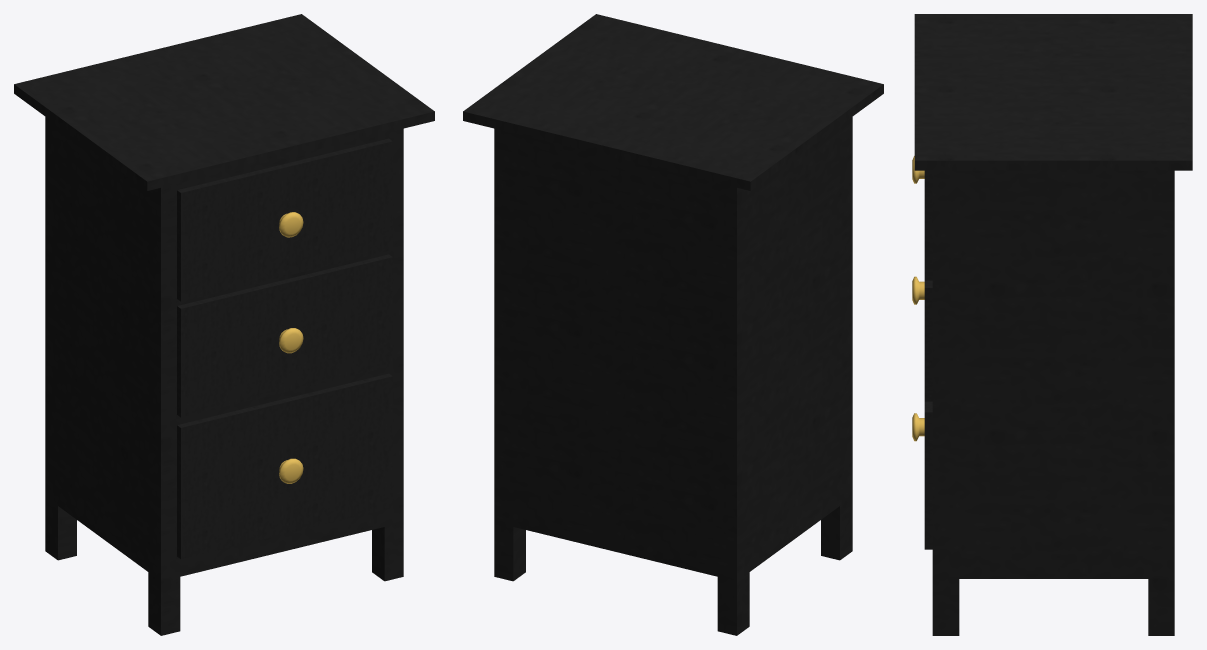
The model's file is Drawer14.fbx.
3 views of the same model, side by side, from view 1: azimuth 30°, elevation 25°; view 2: azimuth 150°, elevation 25°; view 3: azimuth 270°, elevation 25° (orthographic). The views are drawn at different scales.
Visible parts, largest first — view 1: Drawer14_Body, Drawer14_3, Drawer14_2, Drawer14_1; view 2: Drawer14_Body; view 3: Drawer14_Body, Drawer14_3, Drawer14_2, Drawer14_1.
Boxes of the visible parts, box(x1,y1,x2,y2) form: Drawer14_Body: box(14, 14, 434, 635); Drawer14_3: box(177, 373, 392, 559); Drawer14_2: box(177, 254, 392, 417); Drawer14_1: box(177, 138, 392, 301); Drawer14_Body: box(463, 14, 883, 635); Drawer14_Body: box(914, 14, 1192, 635); Drawer14_3: box(912, 401, 932, 549); Drawer14_2: box(912, 276, 932, 401); Drawer14_1: box(912, 156, 932, 280).
Bounding box in the file's own units: 54.41 × 84.25 × 44.01.
